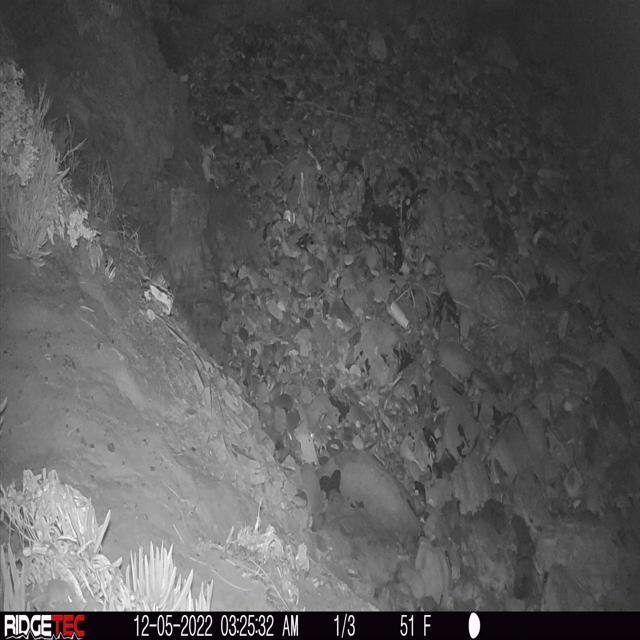rodent: (38, 570, 80, 613)
